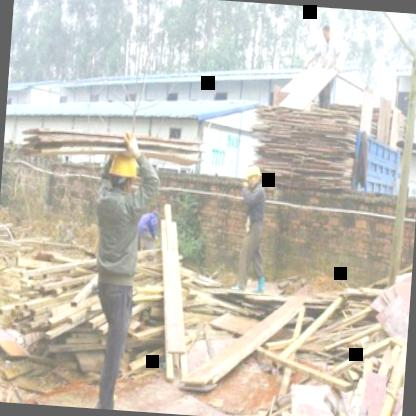helmet: (108, 147, 140, 196), (244, 164, 263, 192)
